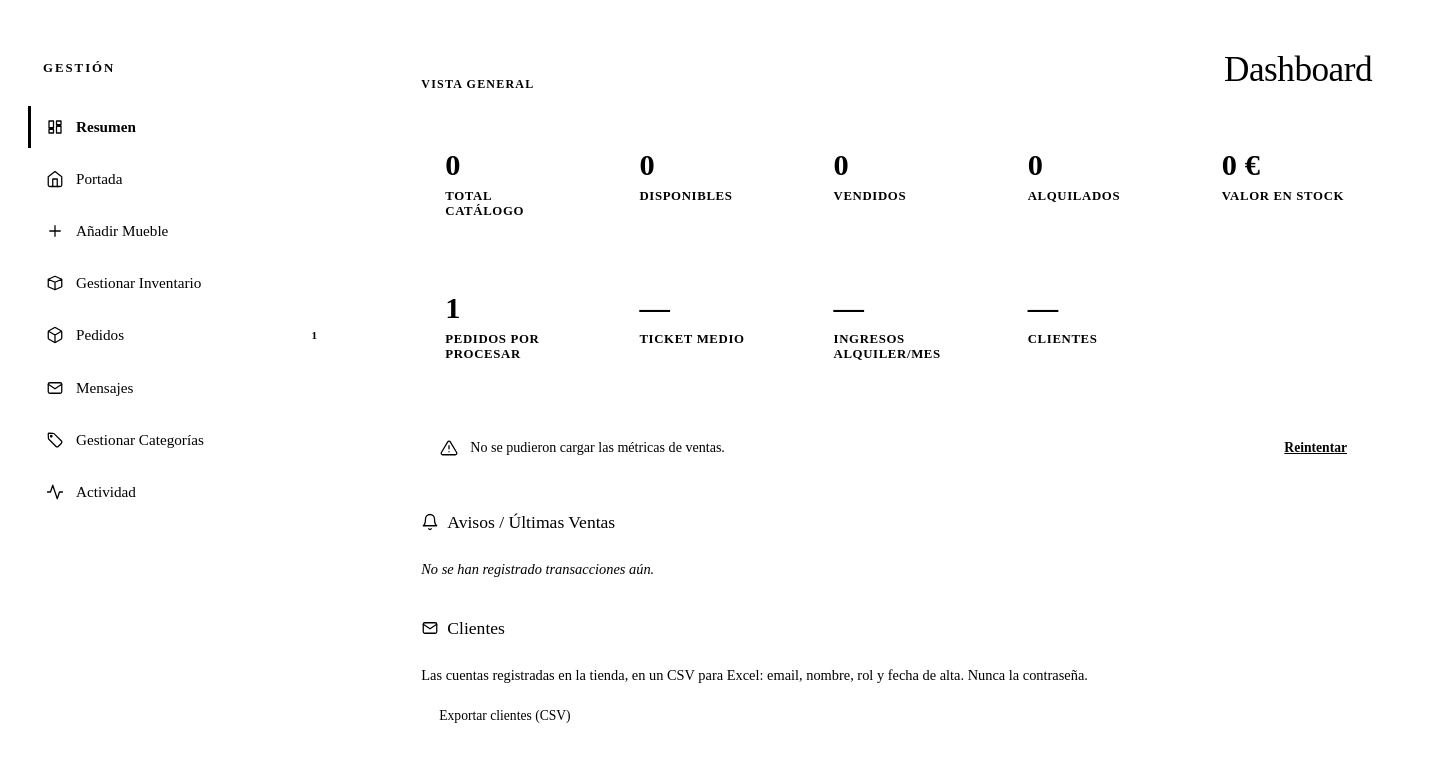
Pedidos — listado › cabecera con el recuento y una tarjeta por pedido, en el orden de la API, con su referencia
Click the button "Pedidos 1": [100, 335] box [28, 314, 341, 357]
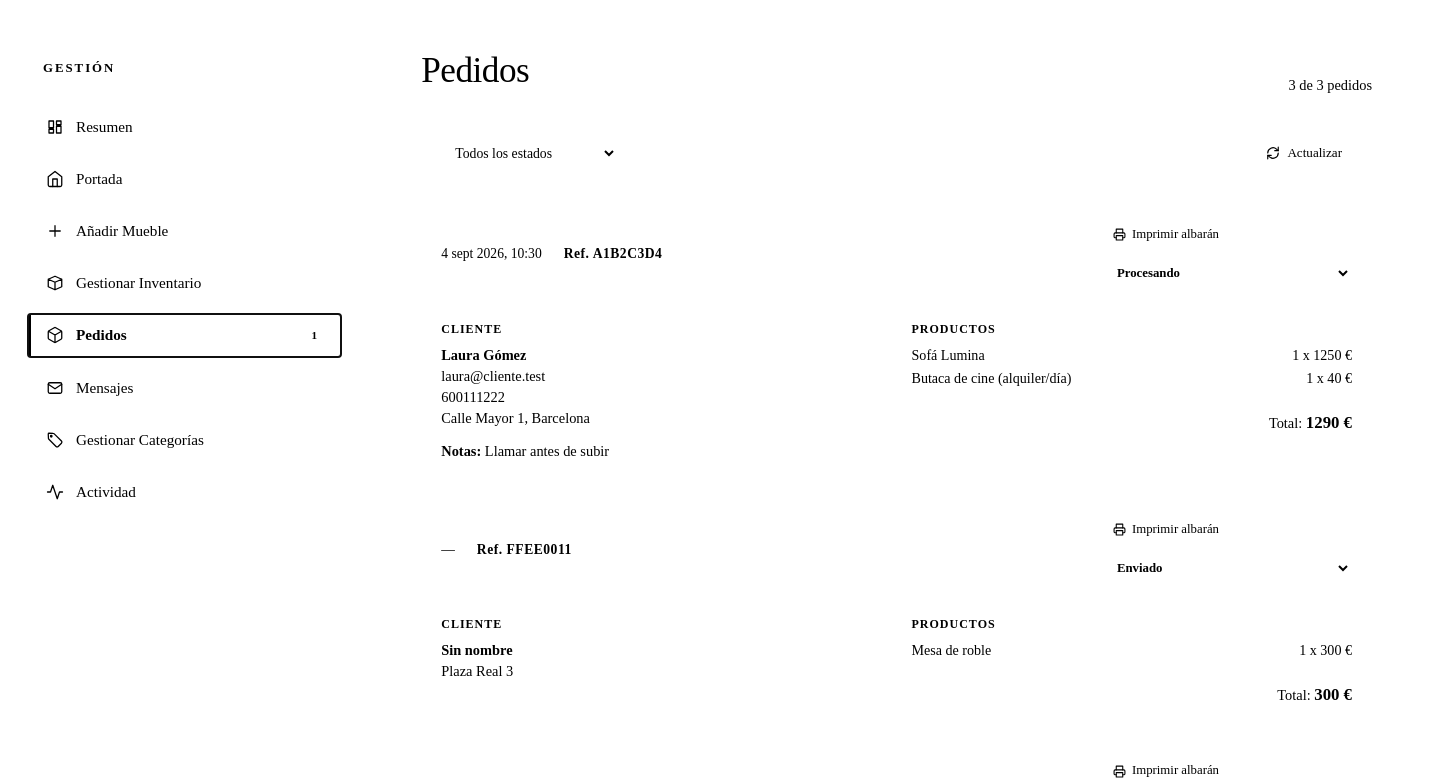
expect the heading "Pedidos" is shown: met, box [421, 48, 529, 94]
expect the text "3 de 3 pedidos" is shown: met, box [1288, 77, 1372, 94]
